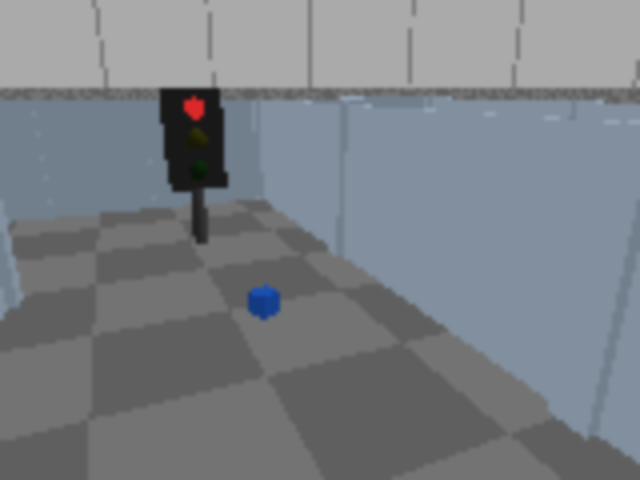puck: (249, 285, 280, 319)
traffic_light: (158, 79, 231, 252)
